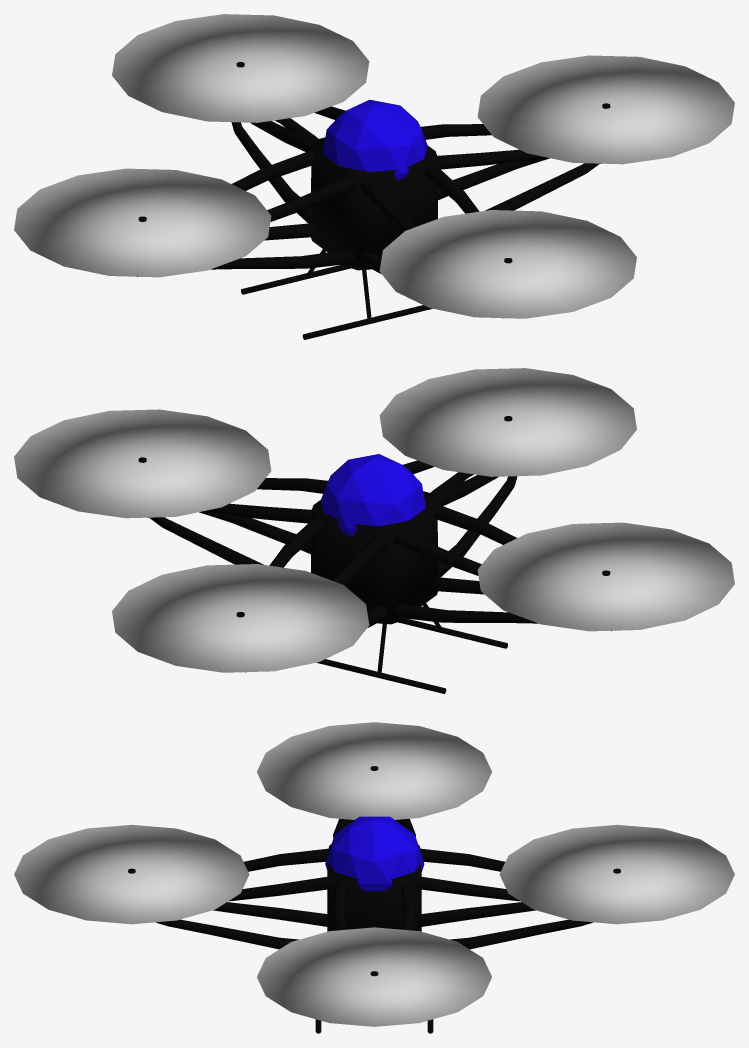
The model's file is BlueWasp.dae.
3 views of the same model, one above another, from view 1: azimuth 30°, elevation 25°; view 2: azimuth 150°, elevation 25°; view 3: azimuth 270°, elevation 25° (orthographic). The views are drawn at different scales.
Visible parts, largest first — view 1: SM_Quadrotor, Icosphere; view 2: SM_Quadrotor, Icosphere; view 3: SM_Quadrotor, Icosphere.
Boxes of the visible parts, x1=… form: SM_Quadrotor: x1=14, y1=14, x2=734, y2=339; Icosphere: x1=323, y1=99, x2=427, y2=180; SM_Quadrotor: x1=14, y1=368, x2=734, y2=693; Icosphere: x1=321, y1=454, x2=425, y2=536; SM_Quadrotor: x1=14, y1=722, x2=734, y2=1033; Icosphere: x1=325, y1=816, x2=424, y2=891.
Size of the model in its own units: 0.5097 by 0.5097 by 0.1331.
